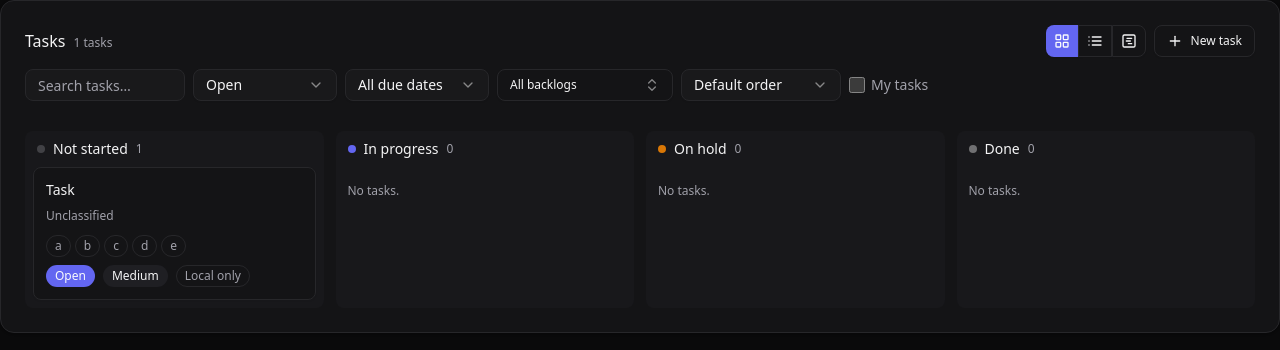
Test: TaskListSection › Row density (issue #154) › caps labels at three and rolls the rest into a +n badge
Click the button named "List": (1095, 41) x1=1078 y1=25 x2=1112 y2=57
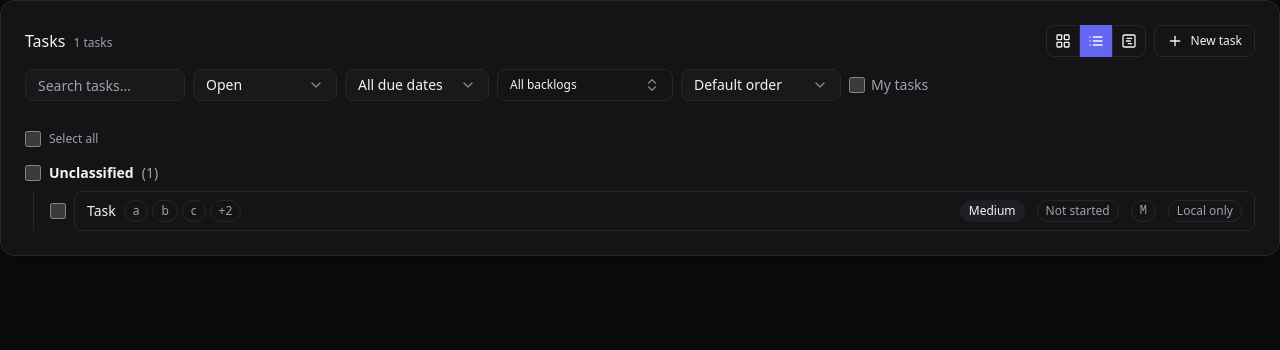
Expected: the button "a" is shown, x1=124 y1=200 x2=148 y2=222
Now the text "+2" is shown, box x1=210 y1=200 x2=241 y2=222
